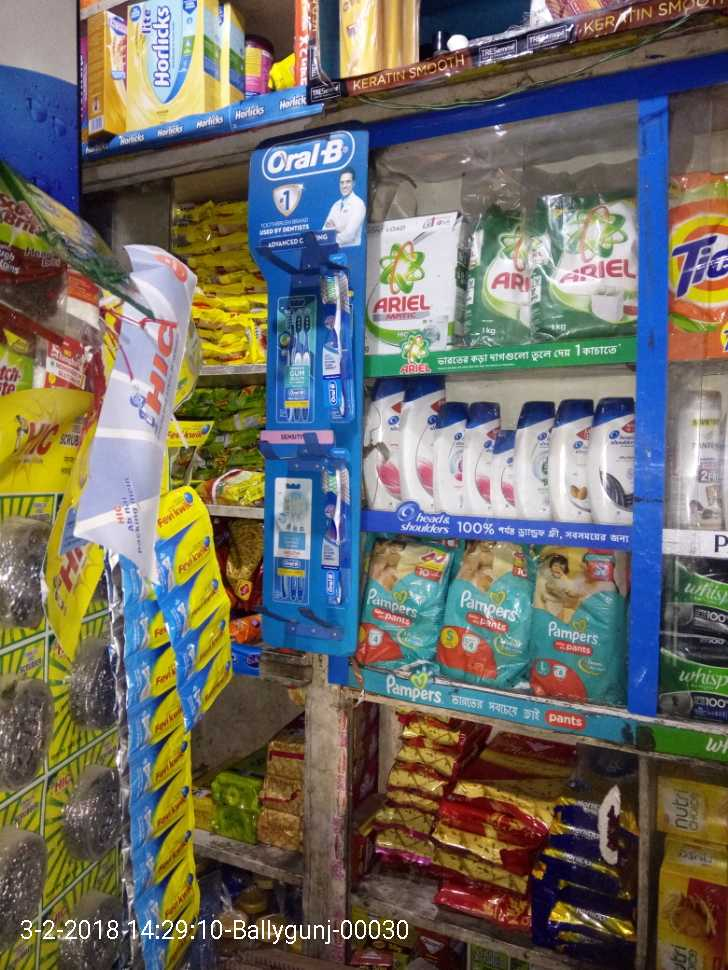beauty: (361, 378, 639, 533)
home: (532, 186, 640, 346), (363, 218, 463, 355), (467, 207, 540, 366)
pharmacy: (539, 543, 622, 714), (439, 533, 531, 687), (360, 539, 443, 679), (314, 262, 361, 418), (308, 461, 353, 607)
